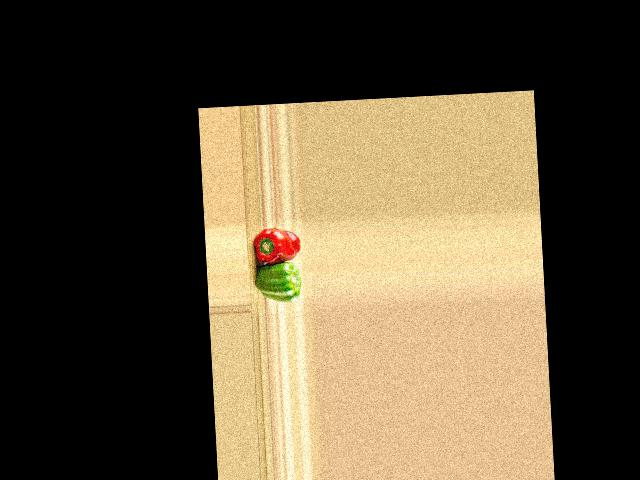bell_pepper: (253, 225, 301, 266)
